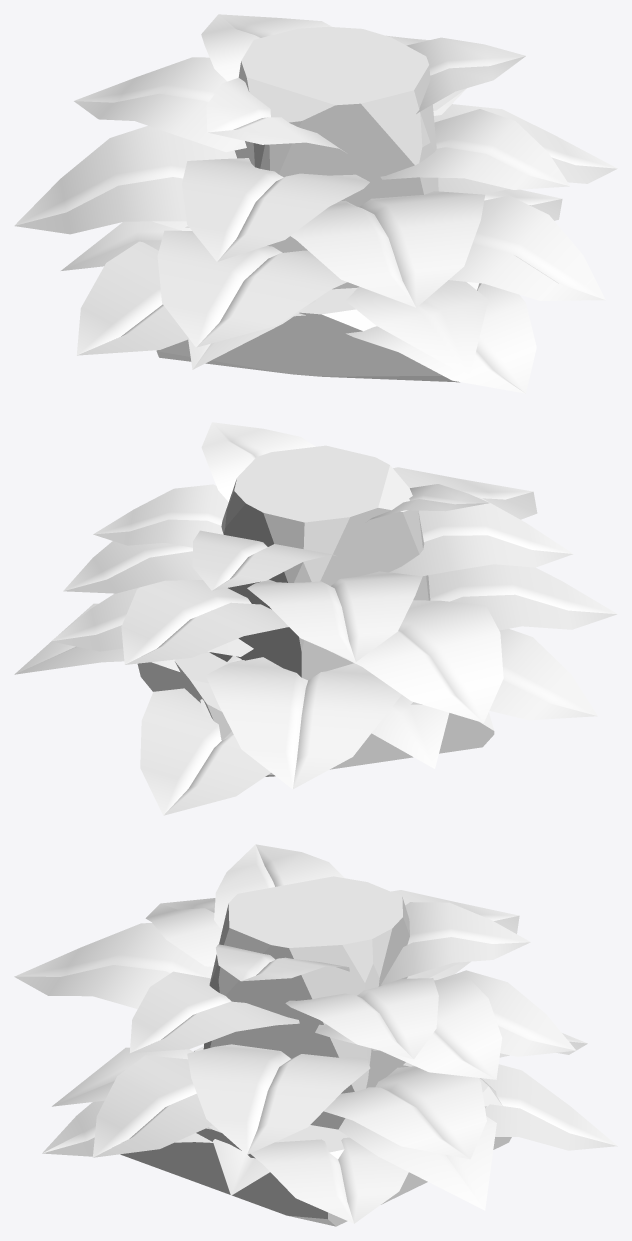
Rendered from Plants.fbx.
3 renders of one model, top to bottom at view 1: azimuth 30°, elevation 25°; view 2: azimuth 150°, elevation 25°; view 3: azimuth 270°, elevation 25°, orthographic. The views are drawn at different scales.
Visible parts, largest first — view 1: Plant_2, Stone_1, Plant_1, Stone_3; view 2: Plant_2, Stone_1, Stone_3, Plant_1; view 3: Plant_2, Stone_1, Plant_1, Stone_3.
Part boxes in pixels (x1,y1,x2,y2): Plant_2: [14, 14, 617, 393]; Stone_1: [234, 26, 438, 289]; Plant_1: [61, 221, 488, 377]; Stone_3: [156, 282, 481, 382]; Plant_2: [51, 422, 617, 815]; Stone_1: [209, 445, 430, 680]; Stone_3: [137, 652, 494, 776]; Plant_1: [14, 603, 449, 768]; Plant_2: [14, 844, 617, 1223]; Stone_1: [203, 876, 409, 1129]; Plant_1: [52, 1047, 496, 1210]; Stone_3: [120, 1046, 511, 1226].
Bounding box in the file's own units: 854 × 394 × 892.
